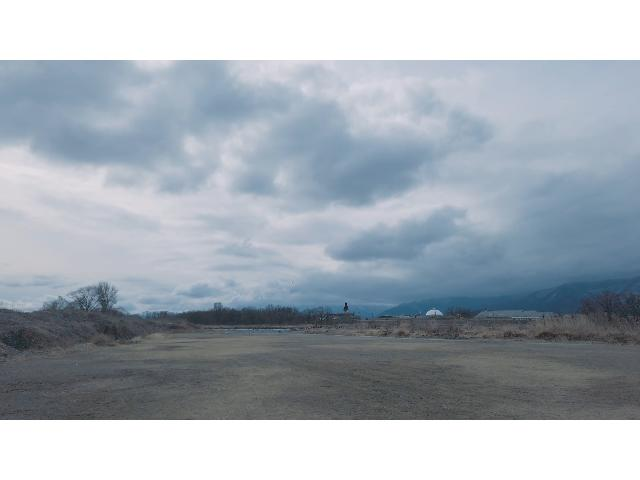Anti-Drone: (287, 280, 295, 286)
